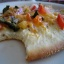pizza: (5, 1, 63, 58)
